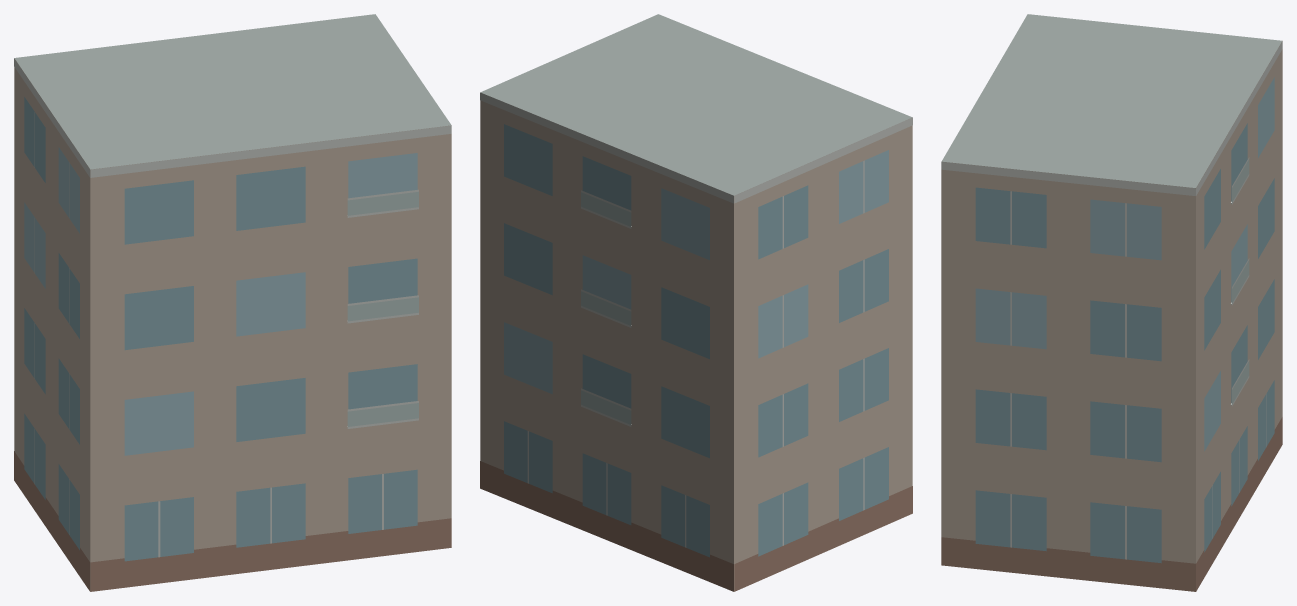
Rendered from residential-1c7e062f-0472-4d98-a2a8-004cb56f1226.glb.
3 views of the same model, side by side, from view 1: azimuth 30°, elevation 25°; view 2: azimuth 150°, elevation 25°; view 3: azimuth 270°, elevation 25° (orthographic). The views are drawn at different scales.
Visible parts, largest first — view 1: residential-1c7e062f-0472-4d98-a2a8-004cb56f1226.tmp; view 2: residential-1c7e062f-0472-4d98-a2a8-004cb56f1226.tmp; view 3: residential-1c7e062f-0472-4d98-a2a8-004cb56f1226.tmp.
Boxes of the visible parts, x1,y1,x2,y2 form: residential-1c7e062f-0472-4d98-a2a8-004cb56f1226.tmp: [14, 14, 451, 591]; residential-1c7e062f-0472-4d98-a2a8-004cb56f1226.tmp: [480, 14, 912, 591]; residential-1c7e062f-0472-4d98-a2a8-004cb56f1226.tmp: [941, 14, 1282, 591].
Bounding box in the file's own units: 11.29 × 12.2 × 9.35.
